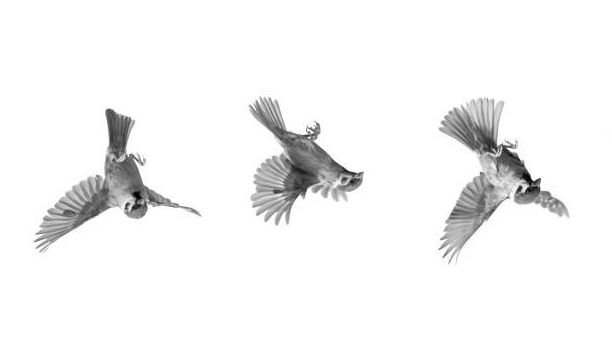Bird: (28, 101, 203, 256), (425, 95, 574, 267), (241, 91, 370, 232)
